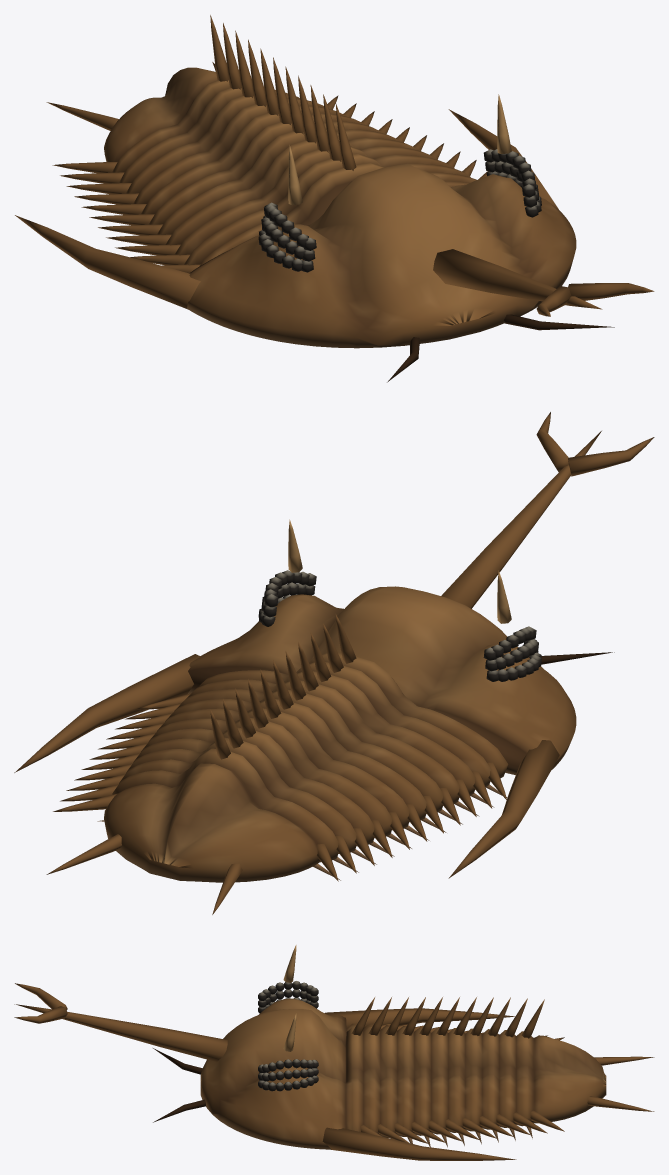
Rendered from Walliserops.fbx.
3 renders of one model, top to bottom at view 1: azimuth 30°, elevation 25°; view 2: azimuth 150°, elevation 25°; view 3: azimuth 270°, elevation 25°, orthographic. The views are drawn at different scales.
Parts seen in each view (by area): view 1: Walliserops; view 2: Walliserops; view 3: Walliserops.
Boxes of the visible parts, x1,y1,x2,y2 form: Walliserops: [15, 15, 654, 382]; Walliserops: [14, 412, 654, 914]; Walliserops: [14, 945, 654, 1160].
Size of the model in its own units: 0.8413 by 0.3283 by 1.58.
